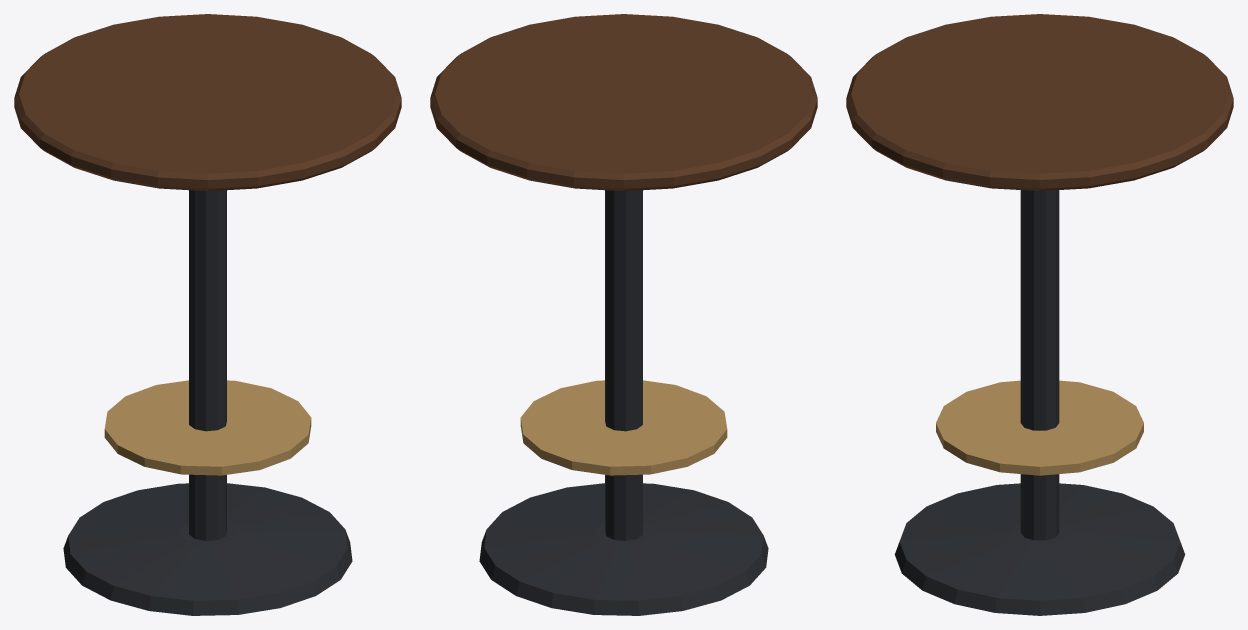
The model's file is pub_table_a.glb.
3 renders of one model, left to right at view 1: azimuth 30°, elevation 25°; view 2: azimuth 150°, elevation 25°; view 3: azimuth 270°, elevation 25°, orthographic.
Visible parts, largest first — view 1: pub_table_a; view 2: pub_table_a; view 3: pub_table_a.
Boxes of the visible parts, x1,y1,x2,y2 form: pub_table_a: (14,14,401,615); pub_table_a: (430,14,817,615); pub_table_a: (846,14,1233,615).
Bounding box in the file's own units: 0.8 × 1.05 × 0.8.
